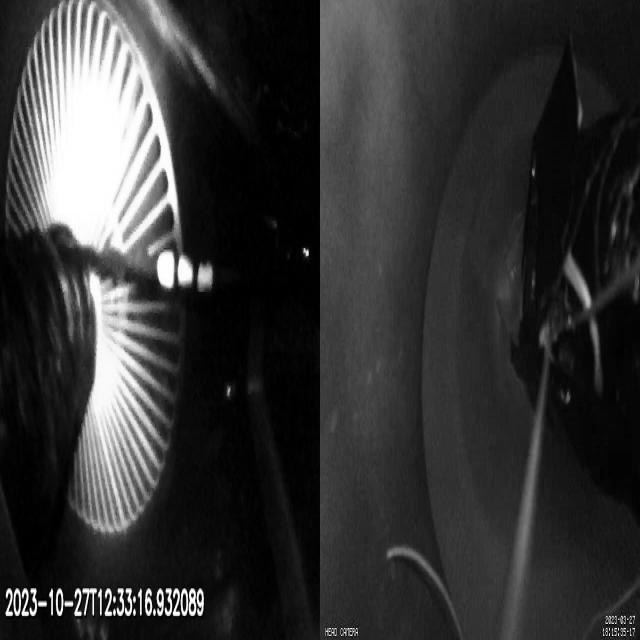white-dots: (156, 247, 213, 297)
